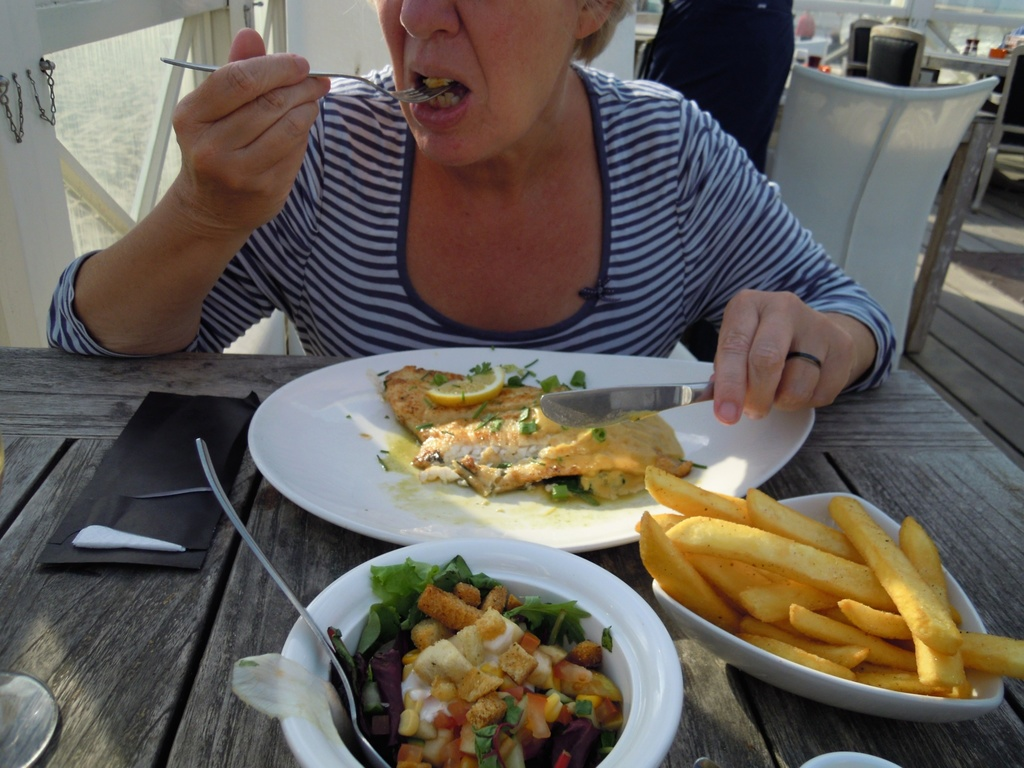French fries: (631, 464, 1023, 709)
